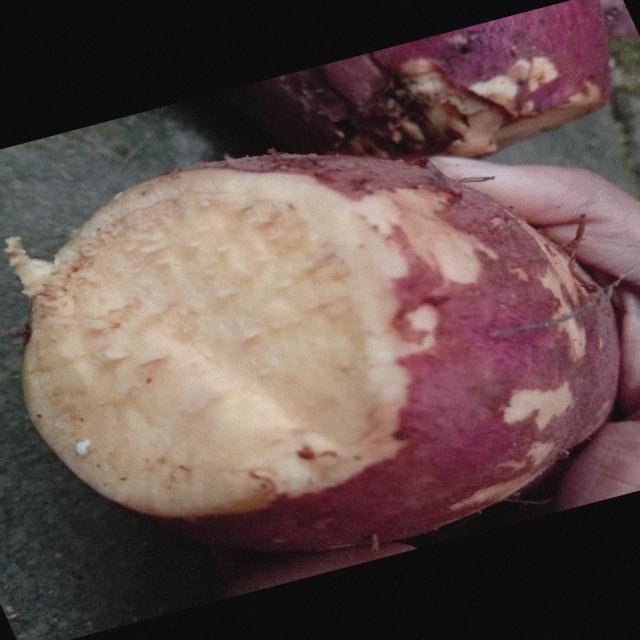Healthy Sweet Potato: (8, 170, 407, 516)
